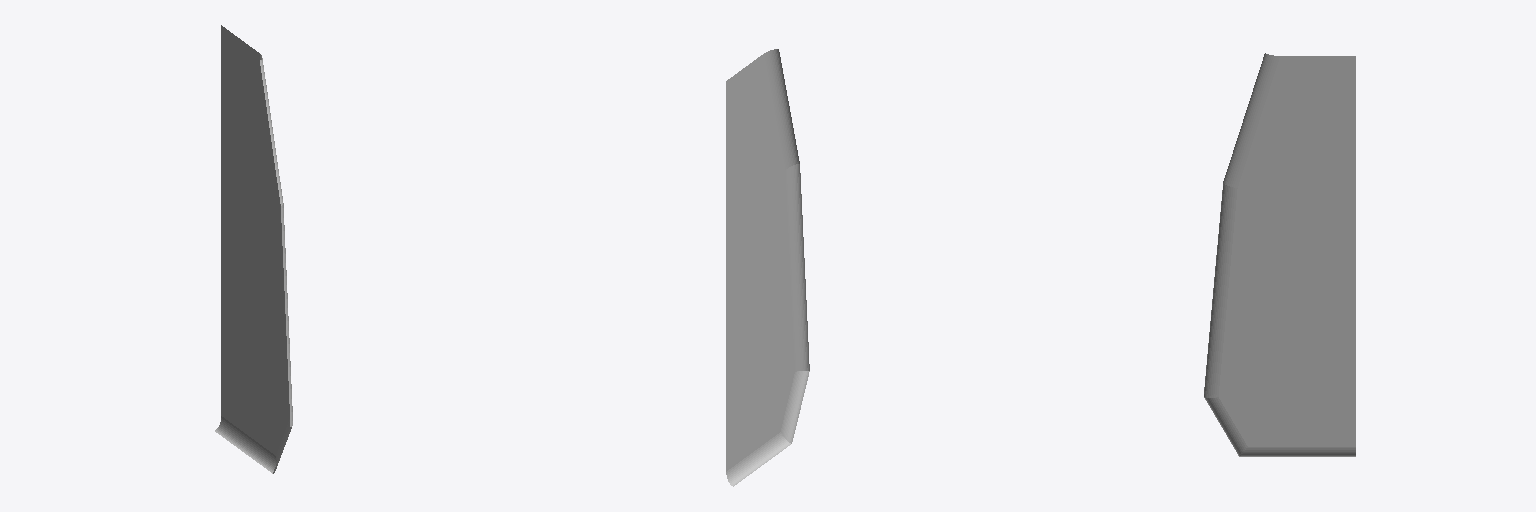
The model's file is original-59.obj.
3 views of the same model, side by side, from view 1: azimuth 30°, elevation 25°; view 2: azimuth 150°, elevation 25°; view 3: azimuth 270°, elevation 25° (orthographic).
Visible parts, largest first — view 1: group_27/ID361#ID361; view 2: group_27/ID361#ID361; view 3: group_27/ID361#ID361.
Part boxes in pixels (left/top/right/bottom): group_27/ID361#ID361: left=215, top=25, right=292, bottom=473; group_27/ID361#ID361: left=726, top=49, right=809, bottom=486; group_27/ID361#ID361: left=1204, top=53, right=1355, bottom=456.
Size of the model in its own units: 0.0039 by 0.205 by 0.0703.